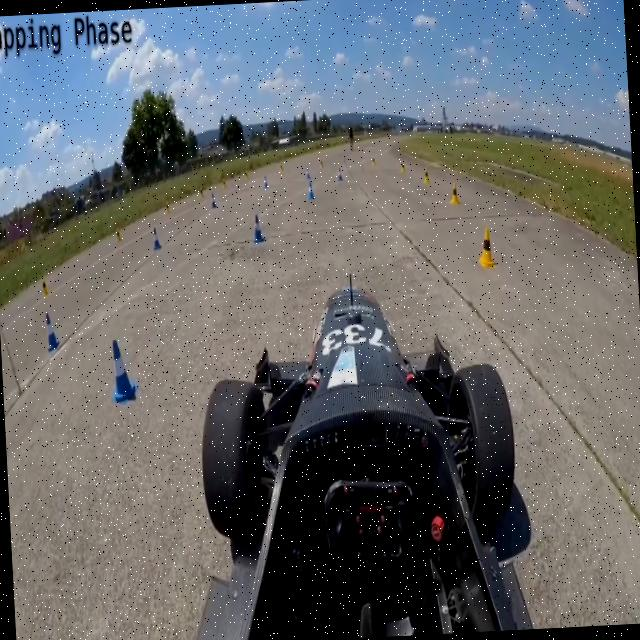blue_cone: (112, 338, 140, 404), (47, 313, 60, 352), (252, 214, 266, 244), (153, 228, 162, 251), (308, 181, 315, 202), (210, 193, 218, 209)
yellow_cone: (477, 228, 497, 268), (449, 181, 461, 207), (41, 277, 50, 297), (424, 167, 431, 184)
